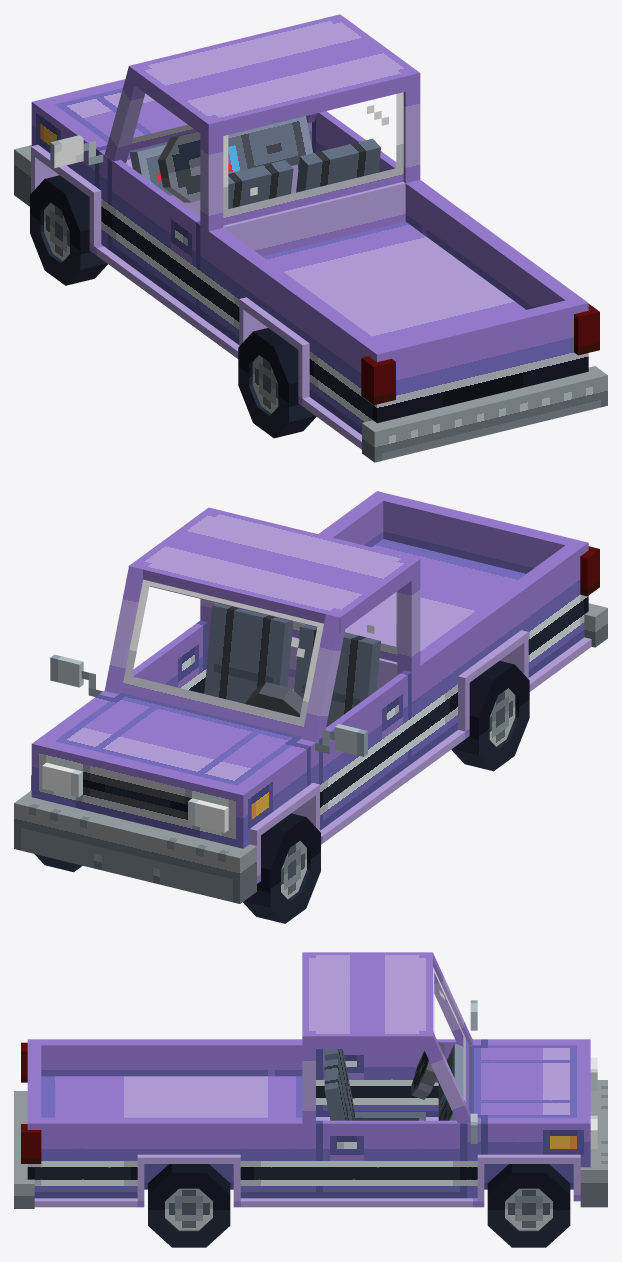
File: pickup-purple.gltf
The picture shows the model from 3 angles, top to bottom: view 1: azimuth 30°, elevation 25°; view 2: azimuth 150°, elevation 25°; view 3: azimuth 270°, elevation 25°; orthographic projection. The views are drawn at different scales.
Visible parts, largest first — view 1: cube, tube; view 2: cube, tube; view 3: cube, tube.
Part boxes in pixels (<box>): cube: <box>14,14,607,462</box>; tube: <box>30,175,316,438</box>; cube: <box>14,491,607,903</box>; tube: <box>34,661,529,923</box>; cube: <box>14,952,607,1230</box>; tube: <box>148,1164,570,1247</box>.
Size of the model in its own units: 2.15 by 1.65 by 4.32.
2 materials, 2 textured.
